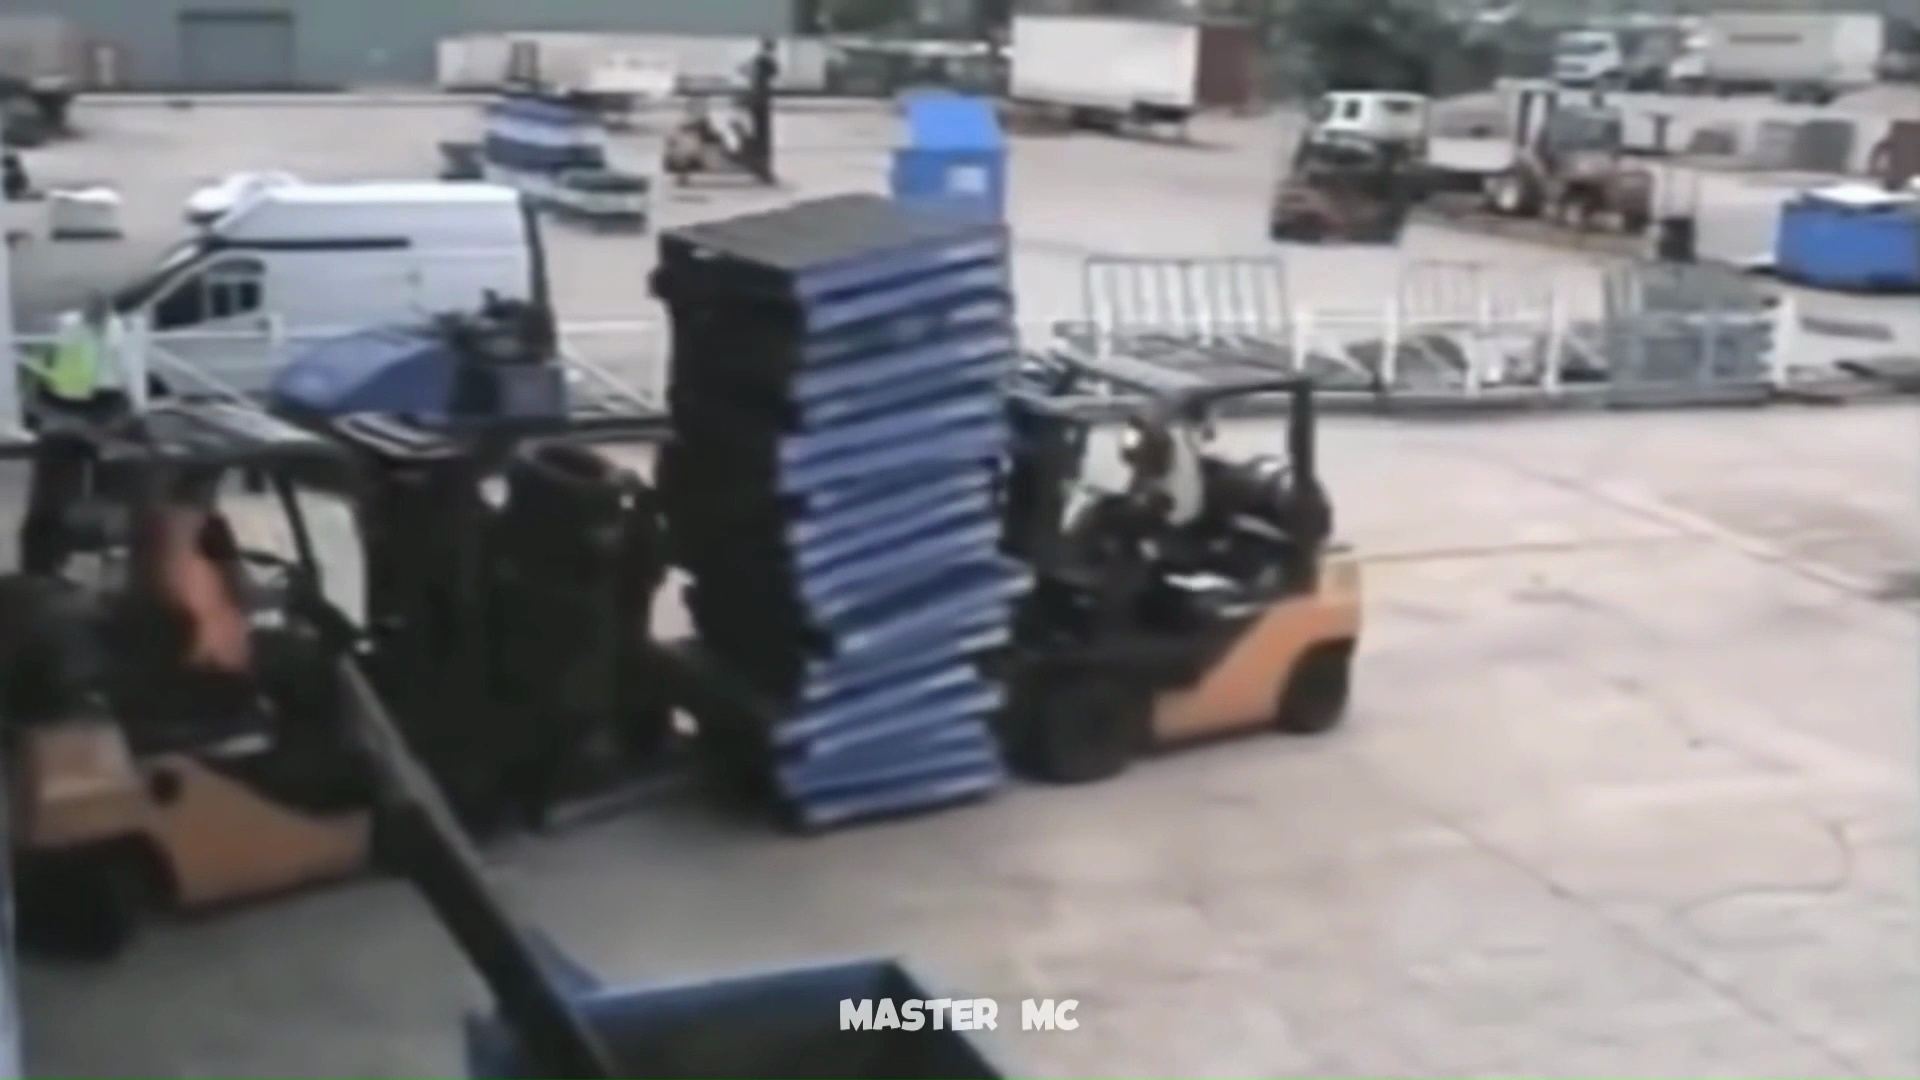forklift: (675, 207, 1365, 819), (1, 388, 758, 922)
